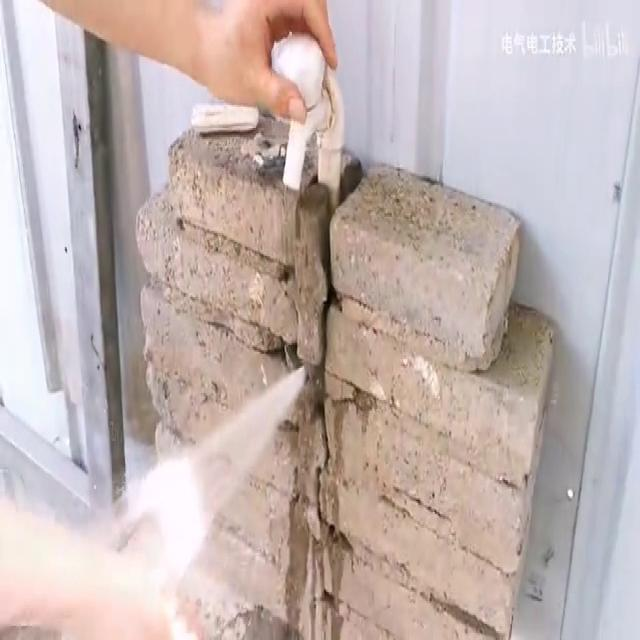leak: (0, 359, 307, 640)
